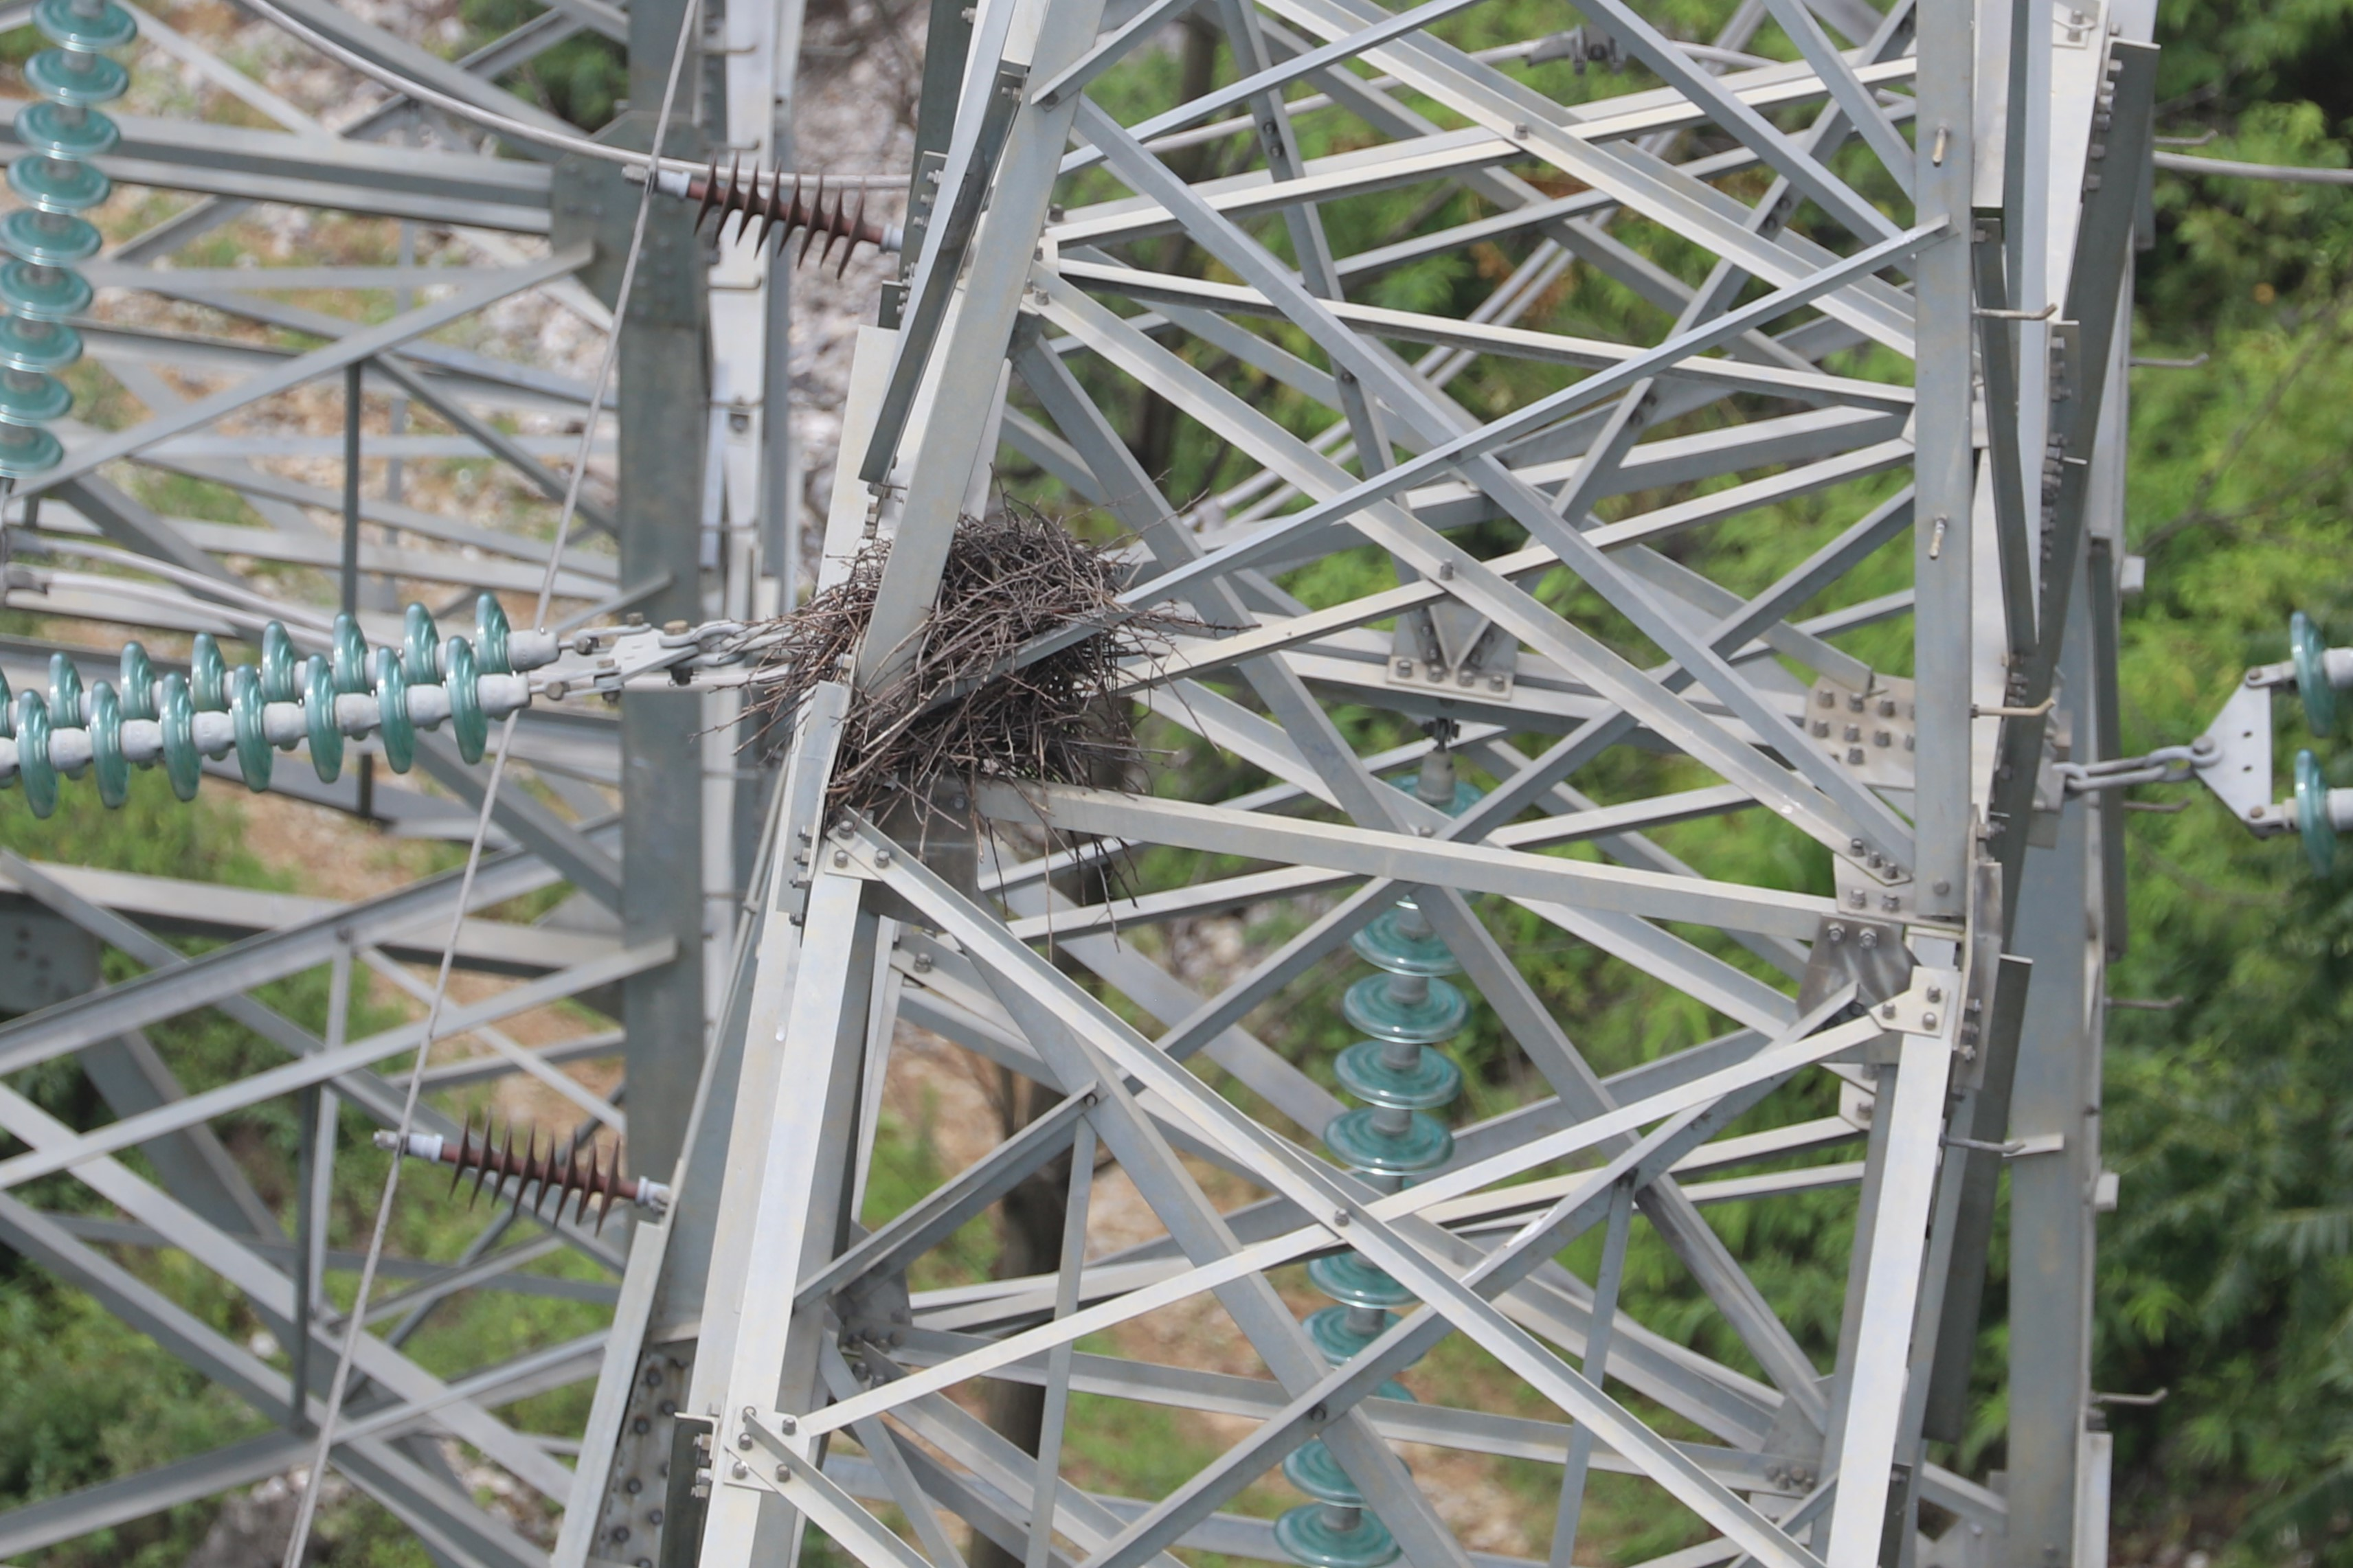niaowo: (788, 476, 1162, 856)
